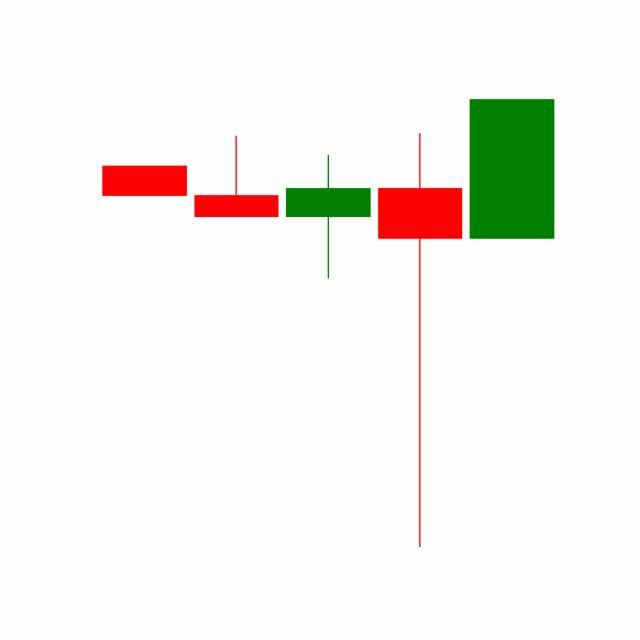Marubozu: (466, 98, 559, 240)
